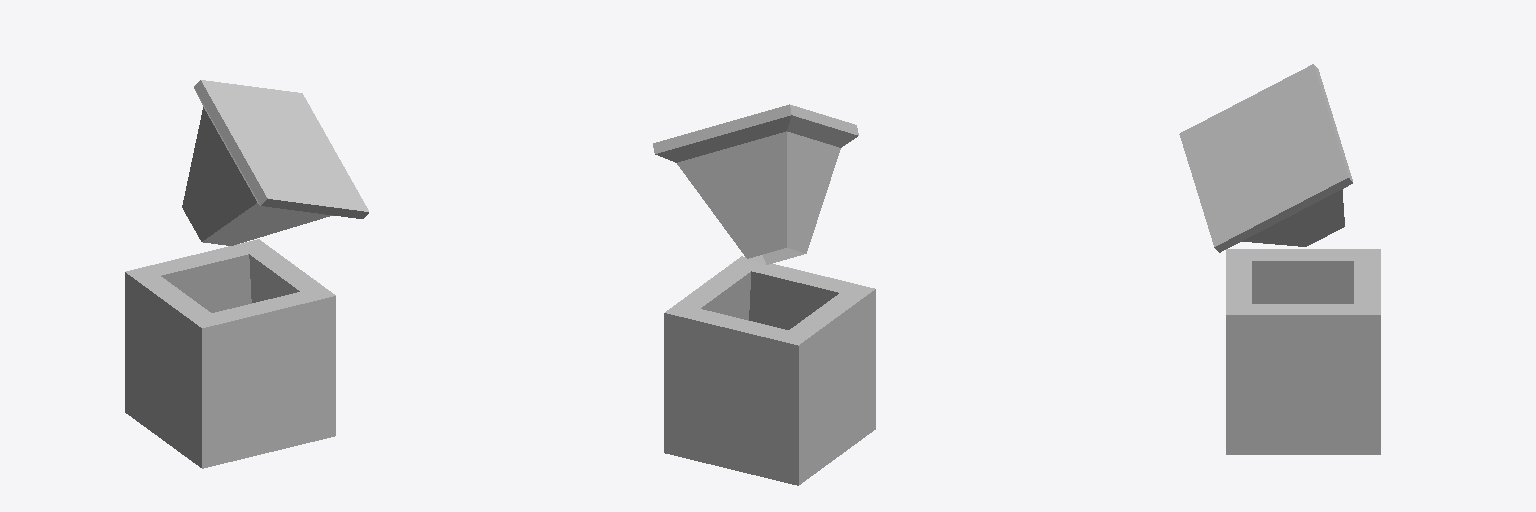
File: AnimatedBox_000033.obj
The picture shows the model from 3 angles: view 1: azimuth 30°, elevation 25°; view 2: azimuth 150°, elevation 25°; view 3: azimuth 270°, elevation 25°; orthographic projection.
Parts seen in each view (by area): view 1: Cube, Cube.001; view 2: Cube, Cube.001; view 3: Cube, Cube.001.
Part boxes in pixels (x1,y1,x2,y2): Cube: (125,239,335,468); Cube.001: (182,80,368,245); Cube: (664,256,875,485); Cube.001: (653,104,858,264); Cube: (1226,249,1380,454); Cube.001: (1179,64,1352,252).
Size of the model in its own units: 2.41 by 4.94 by 2.6.